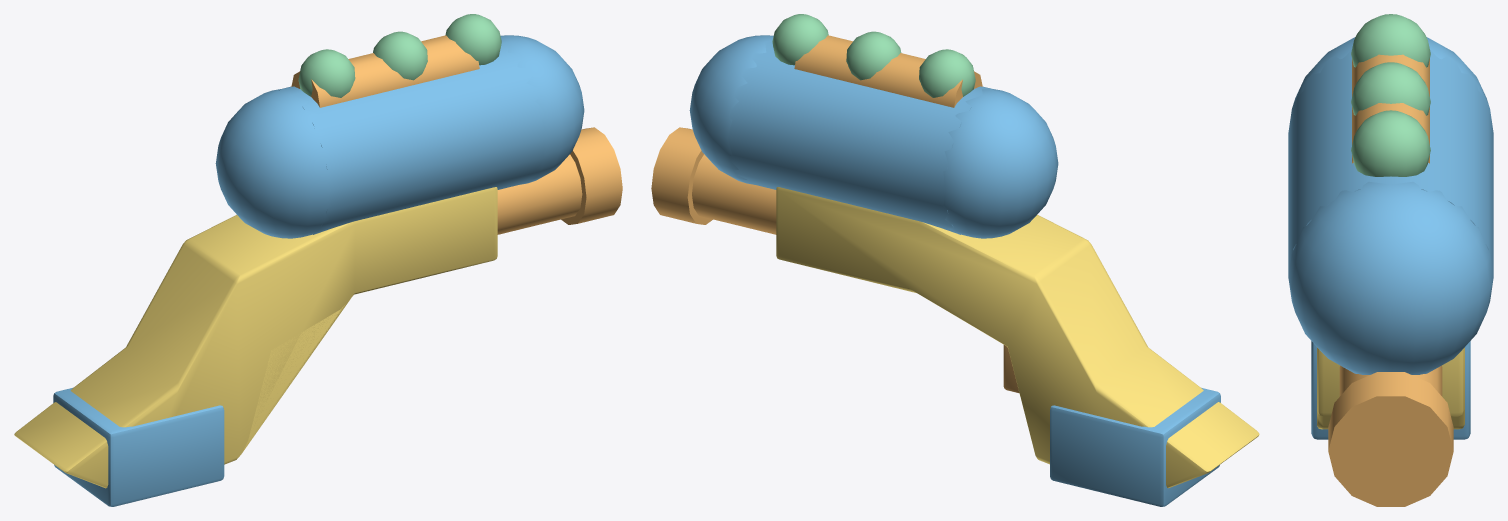
File: th37_wasserpistole.glb
3 renders of one model, left to right at view 1: azimuth 30°, elevation 25°; view 2: azimuth 150°, elevation 25°; view 3: azimuth 270°, elevation 25°, orthographic. The views are drawn at different scales.
Visible parts, largest first — view 1: Griffkoerper, Cylinder, Sphere.001, Cube.001, Sphere, Cylinder.003, Cylinder.001, Cylinder.002, Sphere.002, Sphere.004, Sphere.003; view 2: Griffkoerper, Cylinder, Sphere.001, Cube.001, Sphere, Cylinder.003, Cylinder.001, Cylinder.002, Sphere.002, Sphere.004, Sphere.003; view 3: Sphere, Cylinder, Cylinder.002, Sphere.004, Sphere.002, Sphere.003, Griffkoerper, Cylinder.003, Cube.001, Sphere.001, Cylinder.001.
Boxes of the visible parts, x1=… form: Griffkoerper: x1=14, y1=187, x2=497, y2=488; Cylinder: x1=278, y1=41, x2=546, y2=234; Sphere.001: x1=215, y1=89, x2=330, y2=238; Cube.001: x1=53, y1=388, x2=224, y2=506; Sphere: x1=500, y1=35, x2=584, y2=184; Cylinder.003: x1=291, y1=35, x2=479, y2=107; Cylinder.001: x1=497, y1=154, x2=582, y2=234; Cylinder.002: x1=561, y1=127, x2=622, y2=224; Sphere.002: x1=298, y1=49, x2=355, y2=97; Sphere.004: x1=445, y1=14, x2=501, y2=65; Sphere.003: x1=373, y1=31, x2=427, y2=80; Griffkoerper: x1=776, y1=187, x2=1259, y2=488; Cylinder: x1=727, y1=41, x2=995, y2=234; Sphere.001: x1=943, y1=89, x2=1058, y2=238; Cube.001: x1=1050, y1=387, x2=1220, y2=506; Sphere: x1=689, y1=35, x2=773, y2=184; Cylinder.003: x1=794, y1=35, x2=982, y2=107; Cylinder.001: x1=692, y1=154, x2=776, y2=234; Cylinder.002: x1=651, y1=127, x2=712, y2=224; Sphere.002: x1=919, y1=49, x2=975, y2=97; Sphere.004: x1=772, y1=14, x2=828, y2=65; Sphere.003: x1=846, y1=31, x2=901, y2=80; Sphere: x1=1288, y1=181, x2=1493, y2=374; Cylinder: x1=1288, y1=49, x2=1493, y2=276; Cylinder.002: x1=1328, y1=372, x2=1453, y2=506; Sphere.004: x1=1351, y1=110, x2=1430, y2=176; Sphere.002: x1=1351, y1=14, x2=1430, y2=67; Sphere.003: x1=1351, y1=62, x2=1430, y2=115; Griffkoerper: x1=1317, y1=347, x2=1464, y2=429; Cylinder.003: x1=1352, y1=54, x2=1429, y2=163; Cube.001: x1=1311, y1=341, x2=1470, y2=439; Sphere.001: x1=1288, y1=37, x2=1493, y2=130; Cylinder.001: x1=1339, y1=365, x2=1442, y2=396.
Bounding box in the file's own units: 0.7726 × 0.495 × 0.18.
